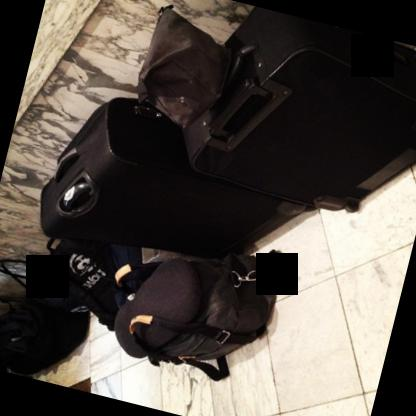backpack: (114, 250, 280, 378), (0, 256, 90, 378), (46, 235, 156, 332)
handbag: (136, 2, 231, 131), (0, 258, 92, 376)
suitcase: (177, 5, 416, 214), (38, 96, 320, 259)
